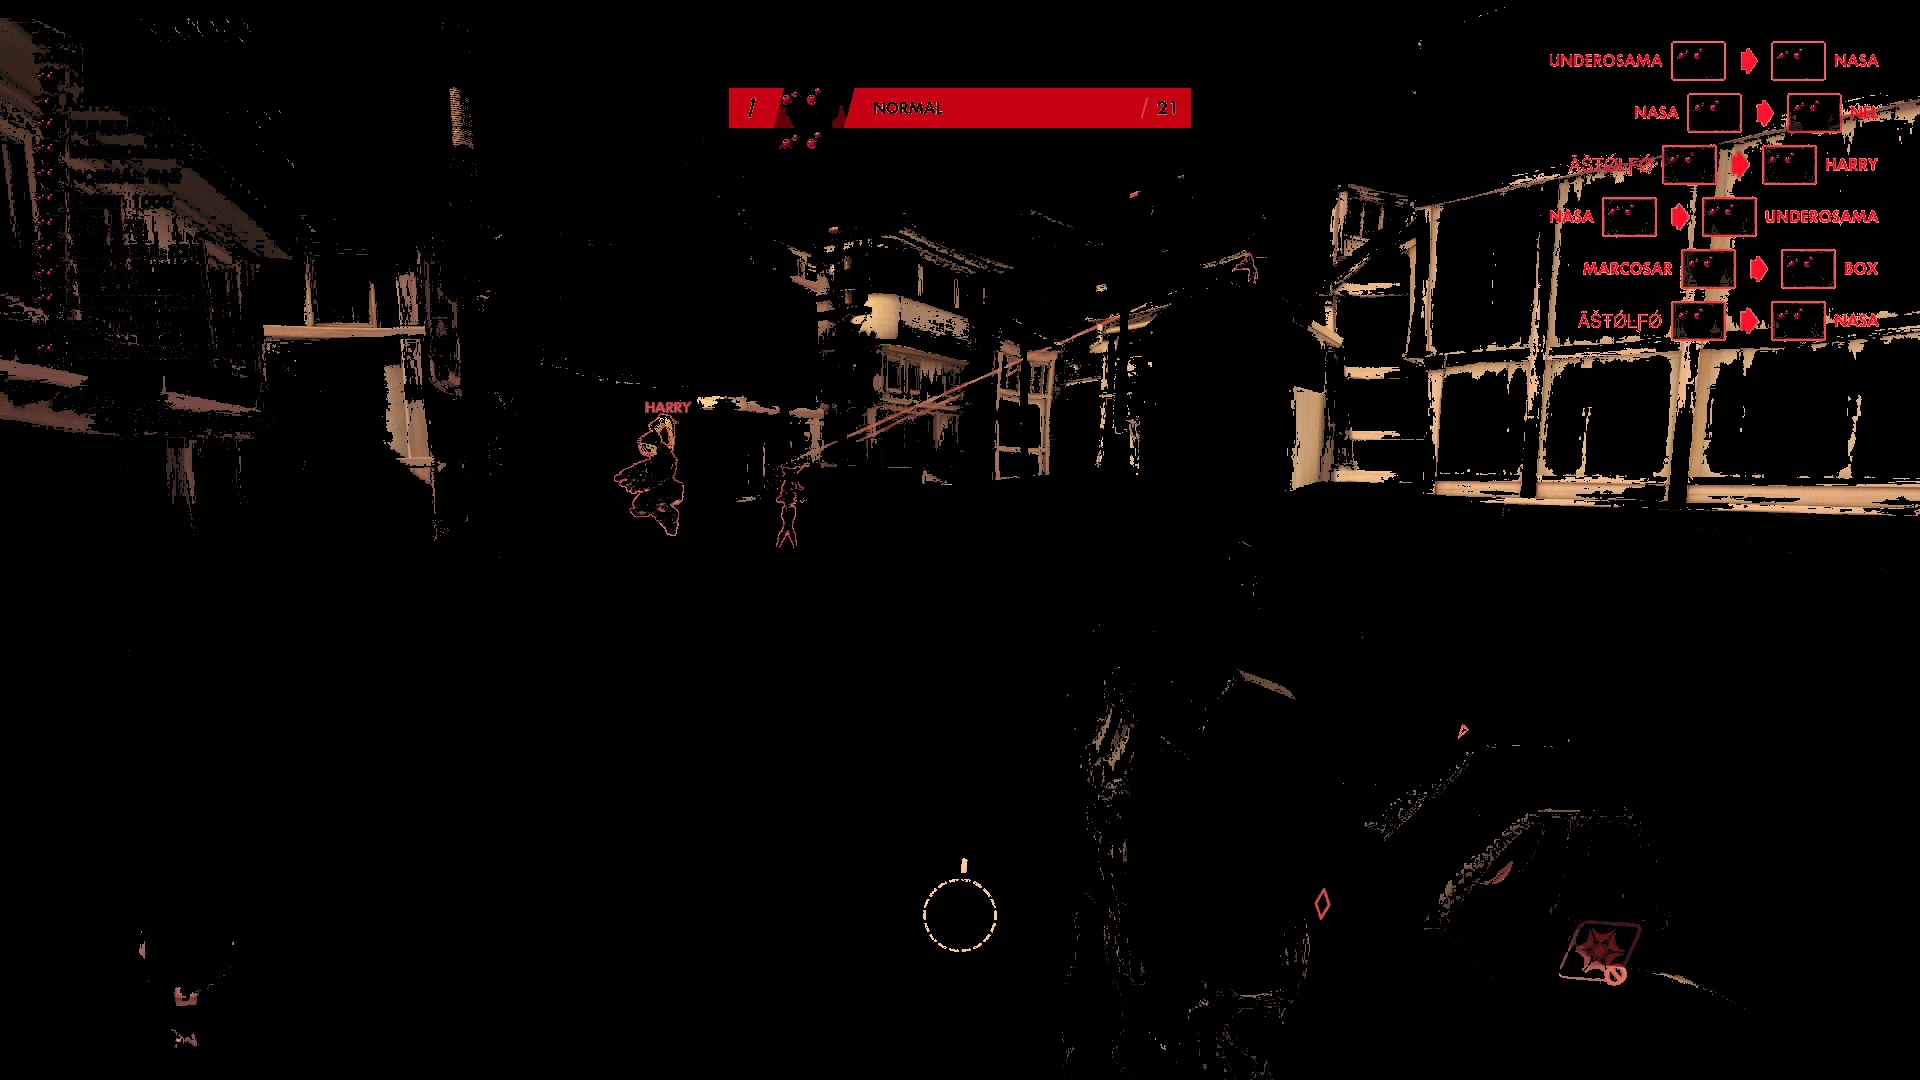widowmaker: (622, 414, 694, 543), (771, 477, 806, 564), (1237, 251, 1263, 287)
